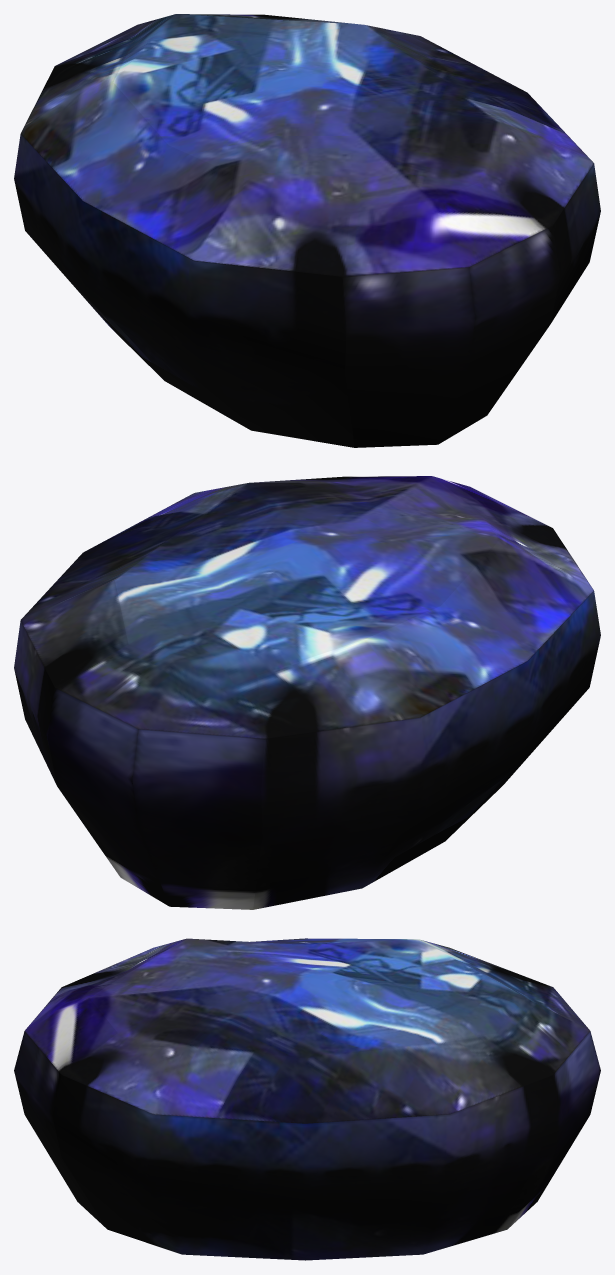
The model's file is blueJewel.obj.
3 renders of one model, top to bottom at view 1: azimuth 30°, elevation 25°; view 2: azimuth 150°, elevation 25°; view 3: azimuth 270°, elevation 25°, orthographic. The views are drawn at different scales.
Visible parts, largest first — view 1: jewel:group2 jewel:pCube3 jewel:polySurface1; view 2: jewel:group2 jewel:pCube3 jewel:polySurface1; view 3: jewel:group2 jewel:pCube3 jewel:polySurface1.
Part boxes in pixels (x1,y1,x2,y2): jewel:group2 jewel:pCube3 jewel:polySurface1: [14, 14, 600, 447]; jewel:group2 jewel:pCube3 jewel:polySurface1: [14, 476, 600, 909]; jewel:group2 jewel:pCube3 jewel:polySurface1: [14, 938, 600, 1260].
Bounding box in the file's own units: 18.44 × 12.28 × 24.27.
1 material, 1 textured.
